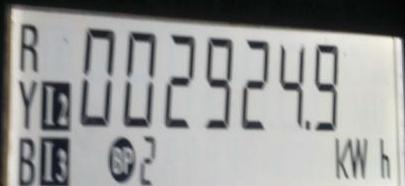.: (327, 135, 394, 180)
0: (305, 120, 312, 131)
1: (77, 26, 117, 123), (121, 30, 158, 127)
3: (163, 36, 198, 131), (238, 40, 272, 132)
5: (276, 41, 306, 130)
:: (308, 44, 346, 132), (202, 38, 234, 132), (202, 38, 235, 129)
